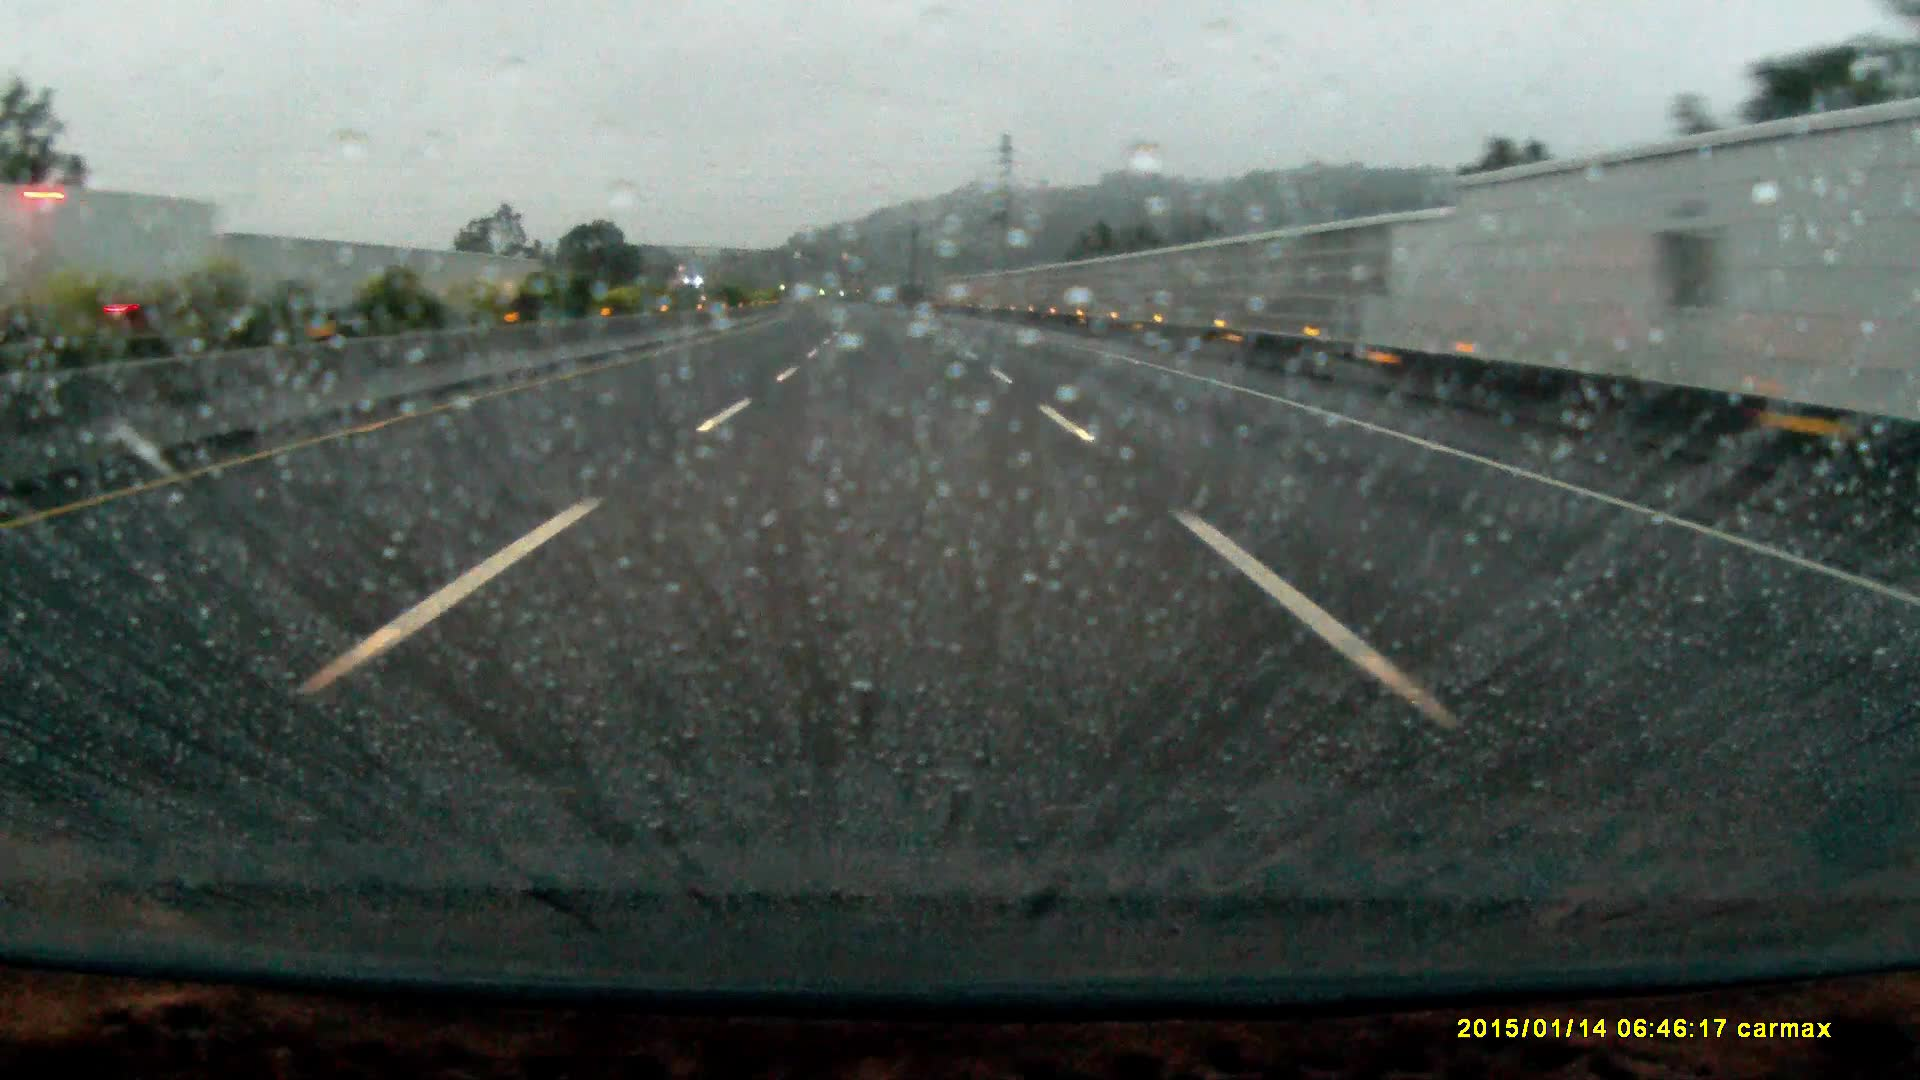vehicle: (1, 187, 245, 349)
